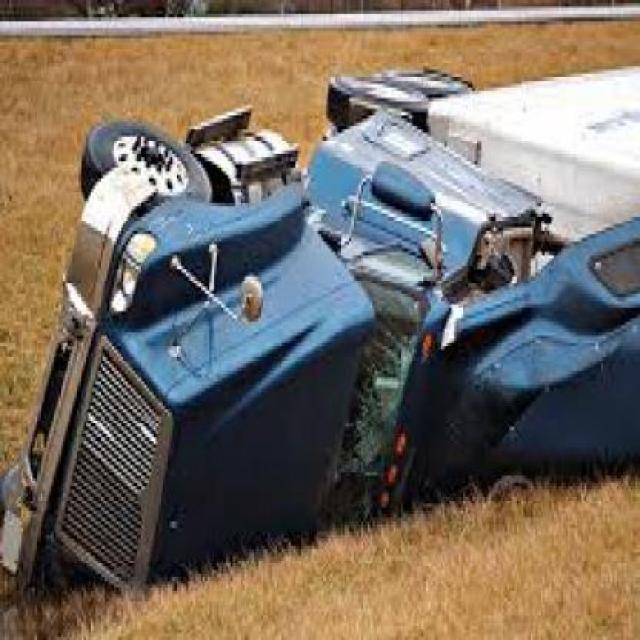accident: (7, 20, 640, 603)
